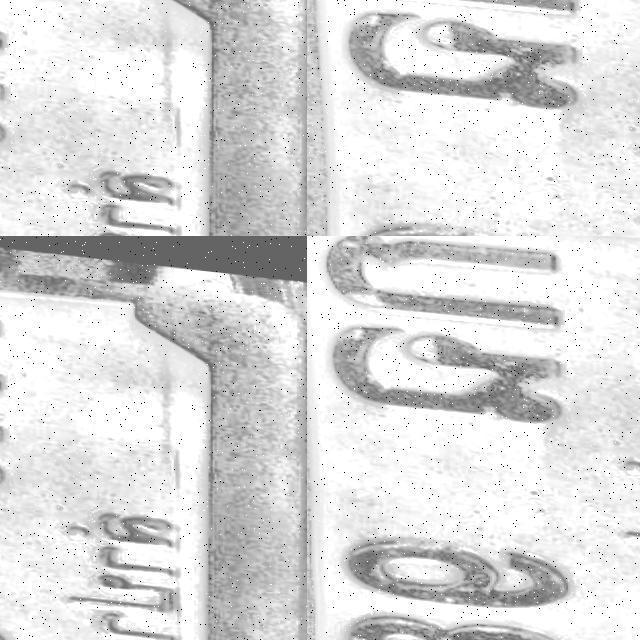license-plate: (307, 236, 640, 640), (307, 0, 533, 92)
